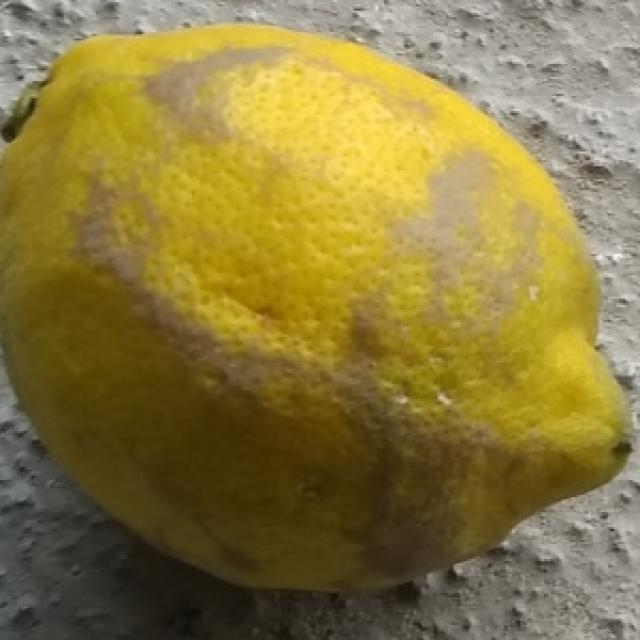overripe: (0, 19, 640, 604)
